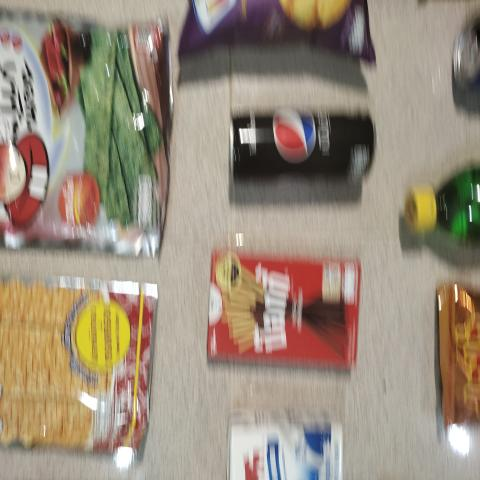pepsi_black: (228, 110, 378, 188)
pokki: (213, 252, 356, 368)
thai_denmark: (230, 420, 344, 480)
